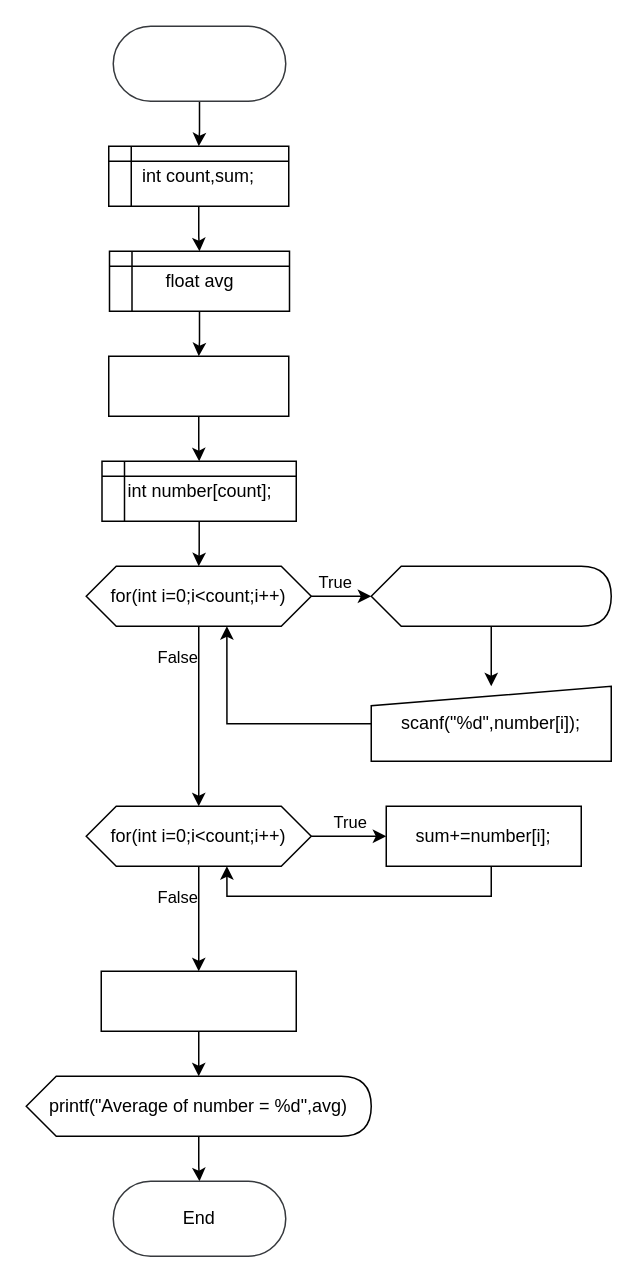
Some shapes in this 638 by 1283 pixel diagram are drawn without their labels. Each missing label, with the centre of its shape:
avg =(float)sum/count;: [198,1000]
count = 5;: [198,385]
printf("Enter number %d",i): [490,595]
Start: [199,63]
